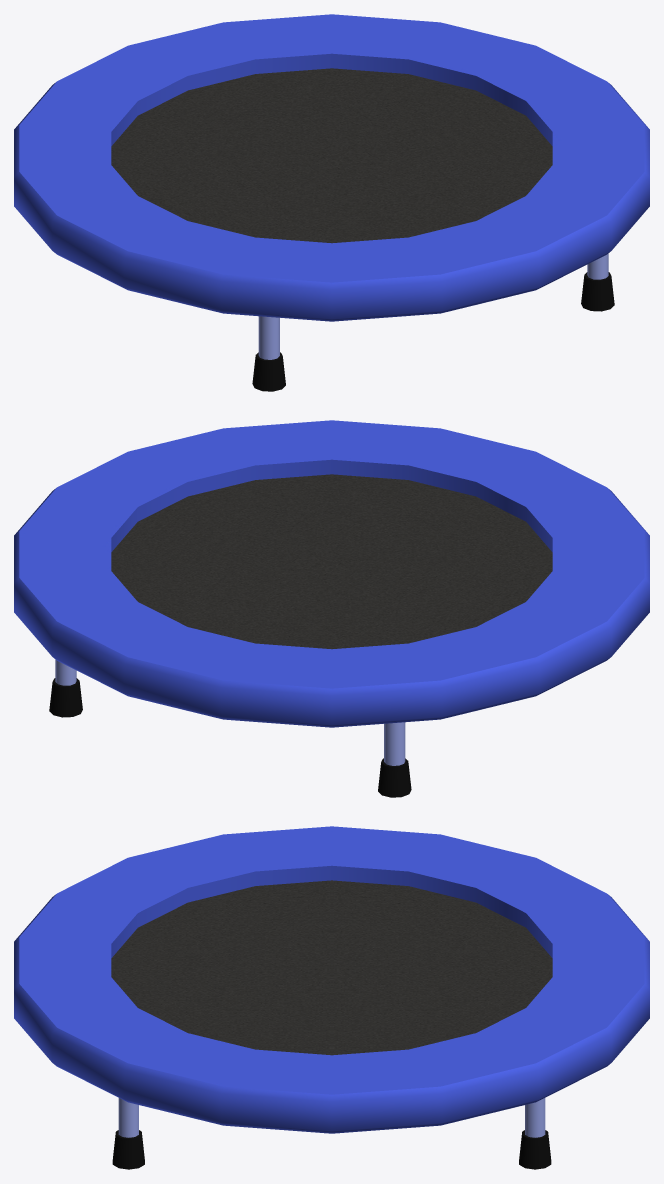
File: trampoline.FBX
The picture shows the model from 3 angles, top to bottom: view 1: azimuth 30°, elevation 25°; view 2: azimuth 150°, elevation 25°; view 3: azimuth 270°, elevation 25°; orthographic projection.
Parts seen in each view (by area): view 1: Cylinder001; view 2: Cylinder001; view 3: Cylinder001.
Boxes of the visible parts, x1,y1,x2,y2 form: Cylinder001: [14, 14, 649, 391]; Cylinder001: [14, 420, 649, 797]; Cylinder001: [14, 826, 649, 1169].
Bounding box in the file's own units: 60.57 × 12.6 × 59.65.
